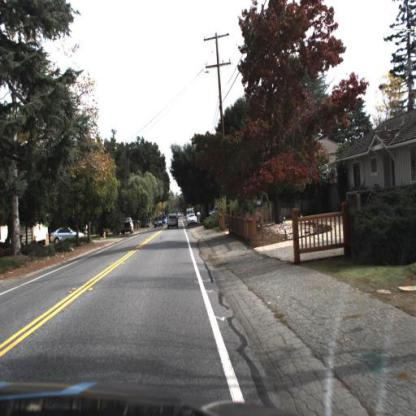car: (48, 226, 89, 244), (53, 225, 87, 246), (122, 215, 139, 238), (167, 212, 181, 232), (152, 214, 165, 230), (186, 215, 200, 228), (188, 212, 200, 227)
